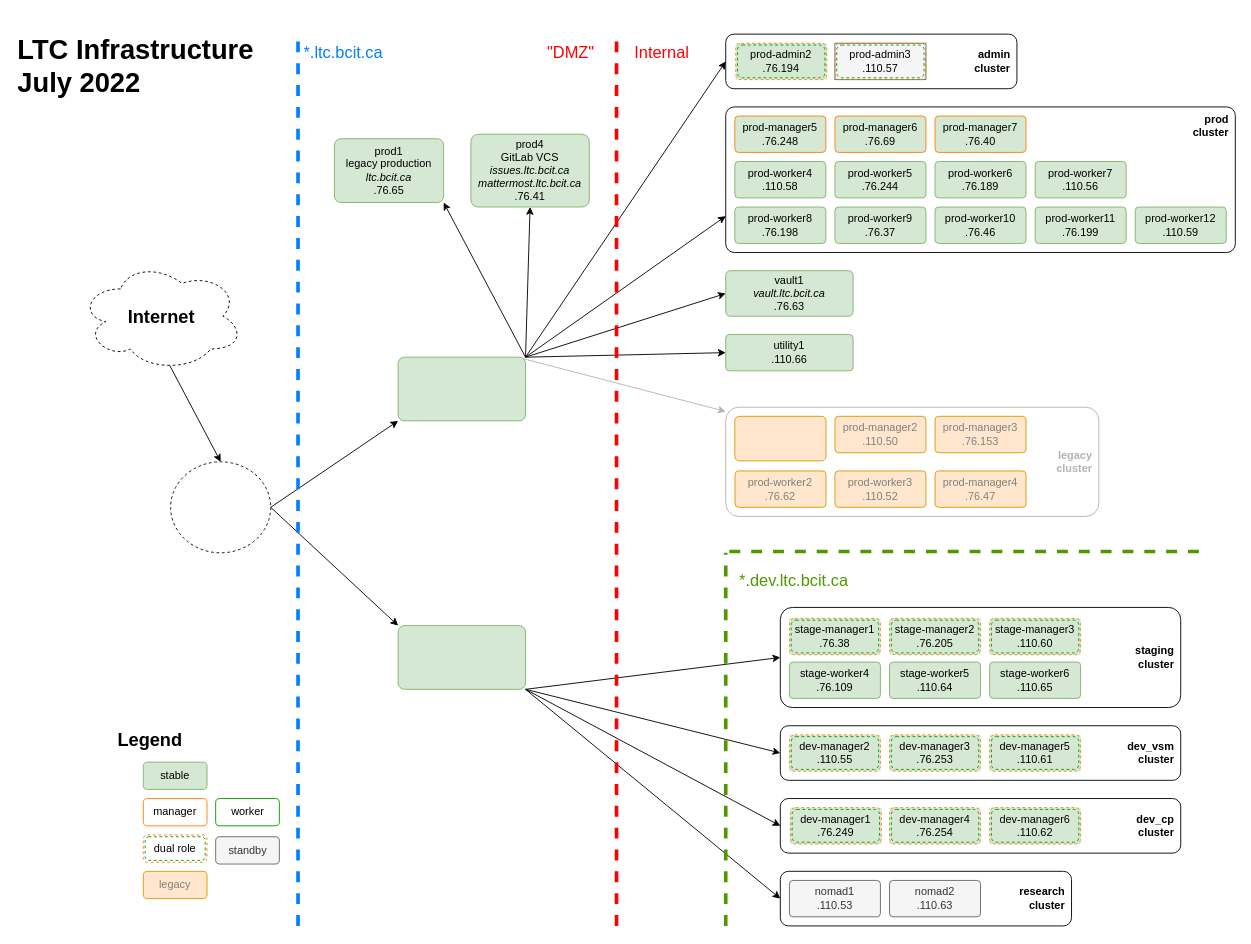
Some shapes in this 1251 by 944 pixel diagram are drawn without their labels. Each missing label, with the centre of its shape:
"dev-gate3 *.dev.ltc.bcit.ca load balancer .110.54" belongs at (461,657).
"ITS DNS" belongs at (220,507).
"prod-admin1 rancher.ltc.bcit.ca .110.51" belongs at (780,438).
"prod-gate2 *.ltc.bcit.ca load balancer .76.35" belongs at (461,388).
